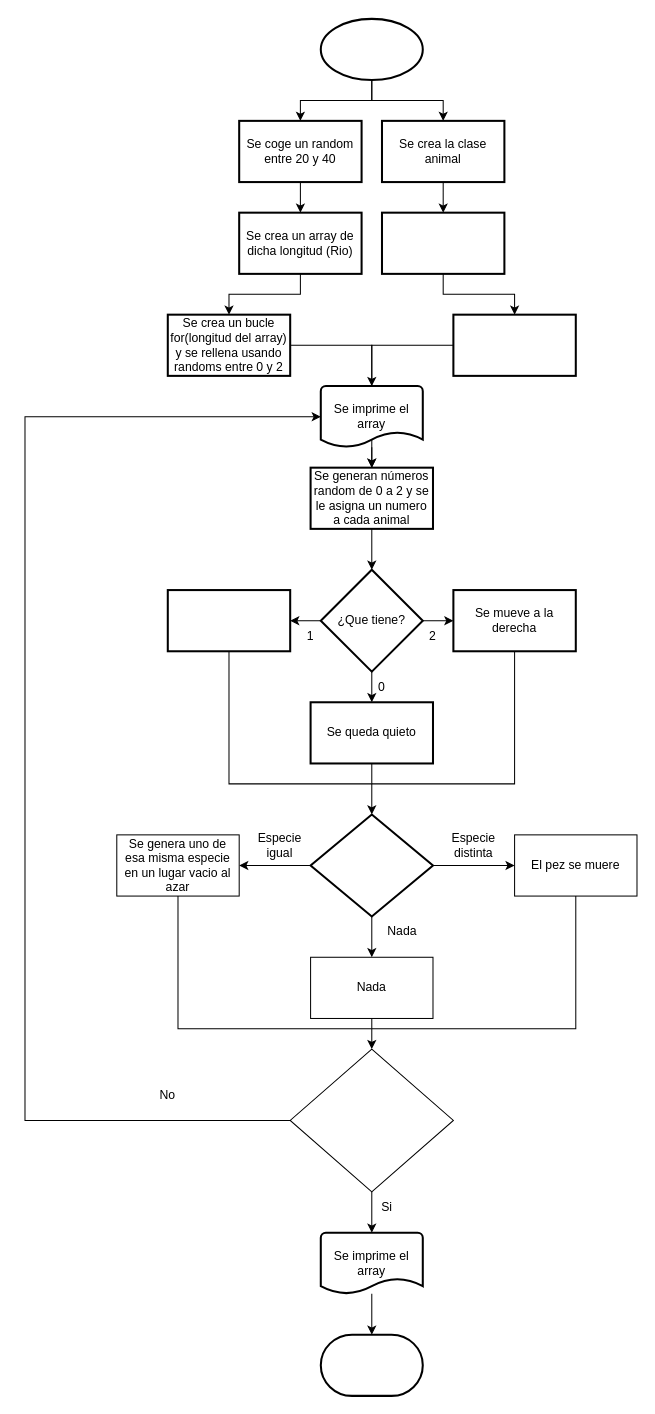
Some shapes in this 655 by 1414 pixel diagram are drawn without their labels. Here are the shapes that lost their labels. From the top down, the box of each, then its label:
(319, 17, 423, 81): INICIO
(380, 211, 505, 274): Se crea la clase pez (hija animal)
(452, 313, 576, 376): Se crea la clase oso (hija animal)
(166, 589, 291, 652): Se mueve a la izquierda
(309, 813, 434, 917): ¿Que hay en la nueva casilla?
(289, 1048, 453, 1192): ¿Se ha finalizado la simulación?
(319, 1333, 423, 1396): FIN
